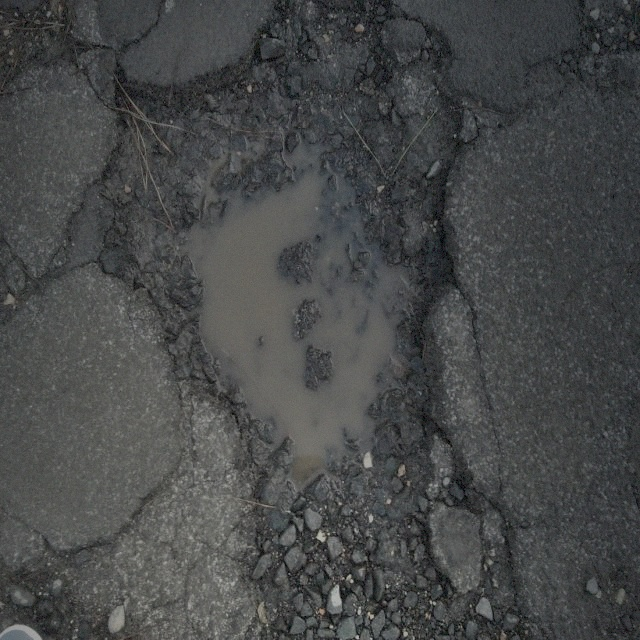pothole: (103, 60, 463, 522)
